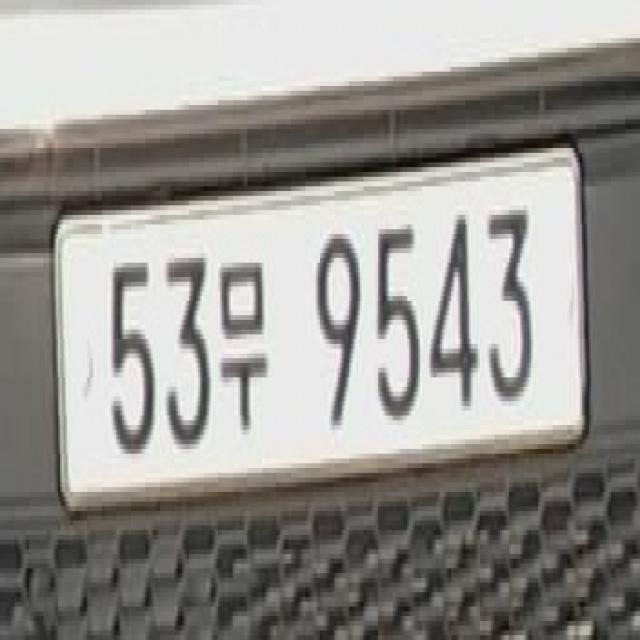3: (476, 210, 549, 425), (162, 229, 220, 478)
4: (420, 182, 485, 440)
5: (102, 248, 162, 464), (378, 191, 431, 425)
9: (304, 239, 371, 444)
license_plate: (55, 138, 598, 526)
mu: (218, 253, 273, 440)
